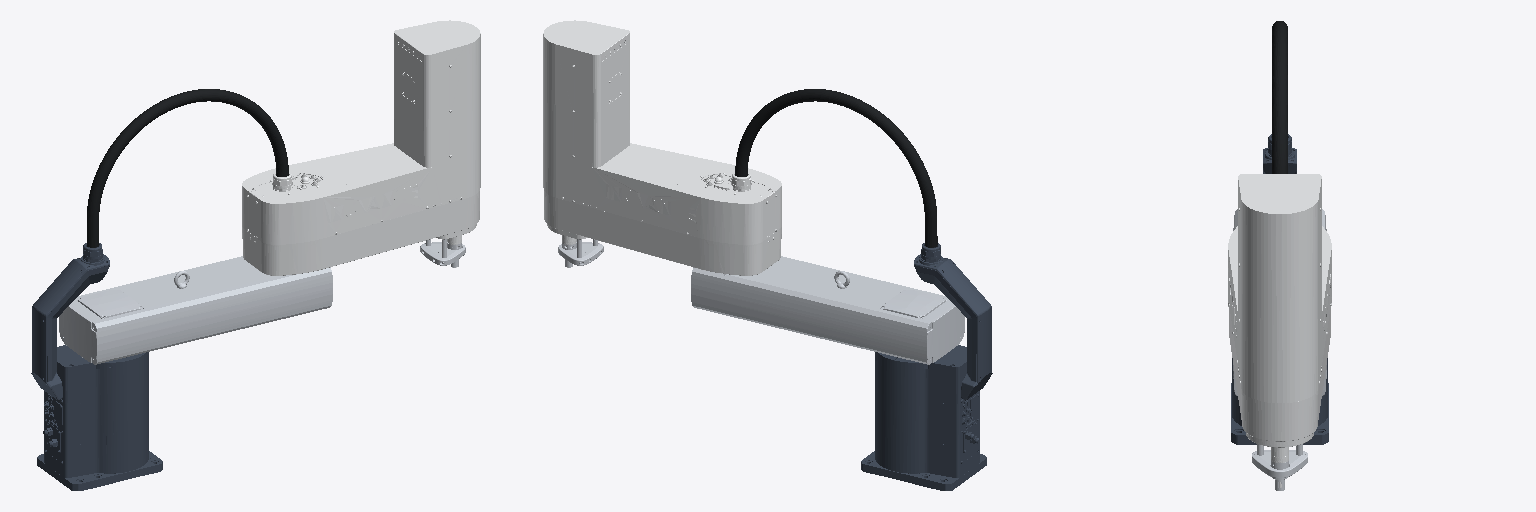
URDF robot description (IR-S60-120Z40S5-A1LSSH-INT_01741335):
<?xml version="1.0"?>
<!-- Firmware source: params_package/Standard/Body/IR-S60-120Z40S5-A1LSSH-INT_01741335/IR-S60-120Z40S5-A1LSSH-INT_01741335.json; SHA256 f2d06e8513b326bd45cde96e07508bbc7dcd14239975d1680642c32da314e174. -->
<!-- Z-up; STL mm scaled to m. Effective firmware mass properties are SI and transformed into CAD link frames. -->
<!-- Revolute effort is nominal output torque; prismatic effort is ideal screw force. See physics-audit.json for approximations. -->
<robot name="IR-S60-120Z40S5-A1LSSH-INT_01741335">
  <link name="base_link">

    <visual name="base">
      <origin xyz="0 0 0" rpy="0 0 0"/>
      <geometry>
        <mesh filename="../models/IR-S60-120Z40/P0.stl" scale="0.001 0.001 0.001"/>
      </geometry>
      <material name="base_material">
        <color rgba="0.31 0.35 0.41 1"/>
      </material>
    </visual>
    <collision name="base_collision">
      <origin xyz="0 0 0" rpy="0 0 0"/>
      <geometry>
        <mesh filename="../models/IR-S60-120Z40/P0.stl" scale="0.001 0.001 0.001"/>
      </geometry>
    </collision>

    <visual name="conduit">
      <origin xyz="0 0 0" rpy="0 0 0"/>
      <geometry>
        <mesh filename="../models/IR-S60-120Z40/TUBE.stl" scale="0.001 0.001 0.001"/>
      </geometry>
      <material name="conduit_material">
        <color rgba="0.16 0.17 0.18 1"/>
      </material>
    </visual>
    <collision name="conduit_collision">
      <origin xyz="0 0 0" rpy="0 0 0"/>
      <geometry>
        <mesh filename="../models/IR-S60-120Z40/TUBE.stl" scale="0.001 0.001 0.001"/>
      </geometry>
    </collision>
  </link>

  <link name="link_1">

    <!-- inertial source: bounding-box-fallback -->
    <!-- SCARA firmware contains planar inertia, not a full 3D tensor; uniform mesh-bounds approximation -->
    <inertial>
      <origin xyz="0.30000623703 -0.000000019073 0.098757995605" rpy="0 0 0"/>
      <mass value="25.7726918119"/>
      <inertia ixx="0.208427109001" ixy="0" ixz="0" iyy="1.583598688066" iyz="0" izz="1.59802974908"/>
    </inertial>

    <visual name="link_1">
      <origin xyz="0 0 0" rpy="0 0 0"/>
      <geometry>
        <mesh filename="../models/IR-S60-120Z40/P1.stl" scale="0.001 0.001 0.001"/>
      </geometry>
      <material name="link_1_material">
        <color rgba="0.84 0.86 0.89 1"/>
      </material>
    </visual>
    <collision name="link_1_collision">
      <origin xyz="0 0 0" rpy="0 0 0"/>
      <geometry>
        <mesh filename="../models/IR-S60-120Z40/P1.stl" scale="0.001 0.001 0.001"/>
      </geometry>
    </collision>
  </link>

  <link name="link_2">

    <!-- inertial source: bounding-box-fallback -->
    <!-- SCARA firmware contains planar inertia, not a full 3D tensor; uniform mesh-bounds approximation -->
    <inertial>
      <origin xyz="0.284180465698 0.000008460999 0.429349967957" rpy="0 0 0"/>
      <mass value="42.1592263001"/>
      <inertia ixx="1.931286982529" ixy="0" ixz="0" iyy="3.854300789726" iyz="0" izz="2.374968314679"/>
    </inertial>

    <visual name="link_2">
      <origin xyz="-0.6 0 0" rpy="0 0 0"/>
      <geometry>
        <mesh filename="../models/IR-S60-120Z40/P2.stl" scale="0.001 0.001 0.001"/>
      </geometry>
      <material name="link_2_material">
        <color rgba="0.94 0.95 0.96 1"/>
      </material>
    </visual>
    <collision name="link_2_collision">
      <origin xyz="-0.6 0 0" rpy="0 0 0"/>
      <geometry>
        <mesh filename="../models/IR-S60-120Z40/P2.stl" scale="0.001 0.001 0.001"/>
      </geometry>
    </collision>
  </link>

  <link name="link_3">

    <!-- inertial source: bounding-box-fallback -->
    <!-- SCARA firmware contains planar inertia, not a full 3D tensor; uniform mesh-bounds approximation -->
    <inertial>
      <origin xyz="-0.030158996582 -0.000002090454 0.365499985695" rpy="0 0 0"/>
      <mass value="2"/>
      <inertia ixx="0.092289175962" ixy="0" ixz="0" iyy="0.091724441632" iyz="0" izz="0.005893270319"/>
    </inertial>

    <visual name="link_3">
      <origin xyz="-1.2 0 0" rpy="0 0 0"/>
      <geometry>
        <mesh filename="../models/IR-S60-120Z40/P3.stl" scale="0.001 0.001 0.001"/>
      </geometry>
      <material name="link_3_material">
        <color rgba="0.84 0.86 0.89 1"/>
      </material>
    </visual>
    <collision name="link_3_collision">
      <origin xyz="-1.2 0 0" rpy="0 0 0"/>
      <geometry>
        <mesh filename="../models/IR-S60-120Z40/P3.stl" scale="0.001 0.001 0.001"/>
      </geometry>
    </collision>
  </link>

  <link name="link_4">

    <!-- inertial source: bounding-box-fallback -->
    <!-- SCARA firmware contains planar inertia, not a full 3D tensor; uniform mesh-bounds approximation -->
    <inertial>
      <origin xyz="0.000000244141 0 0.385" rpy="0 0 0"/>
      <mass value="1.9156446409"/>
      <inertia ixx="0.094748582124" ixy="0" ixz="0" iyy="0.094748586022" iyz="0" izz="0.000199550214"/>
    </inertial>

    <visual name="link_4">
      <origin xyz="-1.2 0 0" rpy="0 0 0"/>
      <geometry>
        <mesh filename="../models/IR-S60-120Z40/P4.stl" scale="0.001 0.001 0.001"/>
      </geometry>
      <material name="link_4_material">
        <color rgba="0.94 0.95 0.96 1"/>
      </material>
    </visual>
    <collision name="link_4_collision">
      <origin xyz="-1.2 0 0" rpy="0 0 0"/>
      <geometry>
        <mesh filename="../models/IR-S60-120Z40/P4.stl" scale="0.001 0.001 0.001"/>
      </geometry>
    </collision>
  </link>

  <joint name="J1" type="revolute">
    <parent link="base_link"/>
    <child link="link_1"/>
    <origin xyz="0 0 0" rpy="0 0 0"/>
    <axis xyz="0 0 1"/>
    <limit lower="-2.268928027593" upper="2.268928027593" effort="689.7" velocity="3.895574890451"/>
  </joint>

  <joint name="J2" type="revolute">
    <parent link="link_1"/>
    <child link="link_2"/>
    <origin xyz="0.6 0 0" rpy="0 0 0"/>
    <axis xyz="0 0 1"/>
    <limit lower="-2.617993877991" upper="2.617993877991" effort="289.19" velocity="4.586725274241"/>
  </joint>

  <joint name="J3" type="prismatic">
    <parent link="link_2"/>
    <child link="link_3"/>
    <origin xyz="0.6 0 0" rpy="0 0 0"/>
    <axis xyz="0 0 1"/>
    <limit lower="-0.4" upper="0.002" effort="998.618056796588" velocity="1.282"/> <!-- ideal screw force: 2*pi*ratedTrq*abs(ratio)/lead_m; efficiency=1 -->
  </joint>

  <joint name="J4" type="revolute">
    <parent link="link_3"/>
    <child link="link_4"/>
    <origin xyz="0 0 0" rpy="0 0 0"/>
    <axis xyz="0 0 1"/>
    <limit lower="-6.28318530718" upper="6.28318530718" effort="63.5" velocity="10.471975511966"/>
  </joint>

  <link name="tool0"/>
  <joint name="tool0_fixed" type="fixed">
    <parent link="link_4"/>
    <child link="tool0"/>
    <origin xyz="0 0 0" rpy="0 0 0"/>
  </joint>
</robot>

--- Render facts (derived) ---
Views: 3 orthographic renders of the robot side by side, from view 1: azimuth 30°, elevation 25°; view 2: azimuth 150°, elevation 25°; view 3: azimuth 270°, elevation 25°.
Model IR-S60-120Z40S5-A1LSSH-INT_01741335 with 6 links and 5 joints (3 revolute, 1 prismatic, 1 fixed), rooted at base_link, posed all joints at 0.
Visible links, largest first — view 1: link_2, base_link, link_1, link_3; view 2: link_2, base_link, link_1, link_3; view 3: link_2, base_link, link_3.
Boxes of the visible links, <box> form: link_2: <box>242,20,480,275</box>; base_link: <box>31,89,288,490</box>; link_1: <box>59,256,332,364</box>; link_3: <box>420,239,465,267</box>; link_2: <box>543,20,781,275</box>; base_link: <box>735,89,992,490</box>; link_1: <box>691,256,964,364</box>; link_3: <box>558,239,603,267</box>; link_2: <box>1228,174,1331,462</box>; base_link: <box>1231,21,1328,444</box>; link_3: <box>1252,444,1307,490</box>.
Size in the robot's own frame: 1.53 by 0.2536 by 1.18 metres.
6 mesh visuals loaded from 6 distinct referenced files (6 binary STL).
